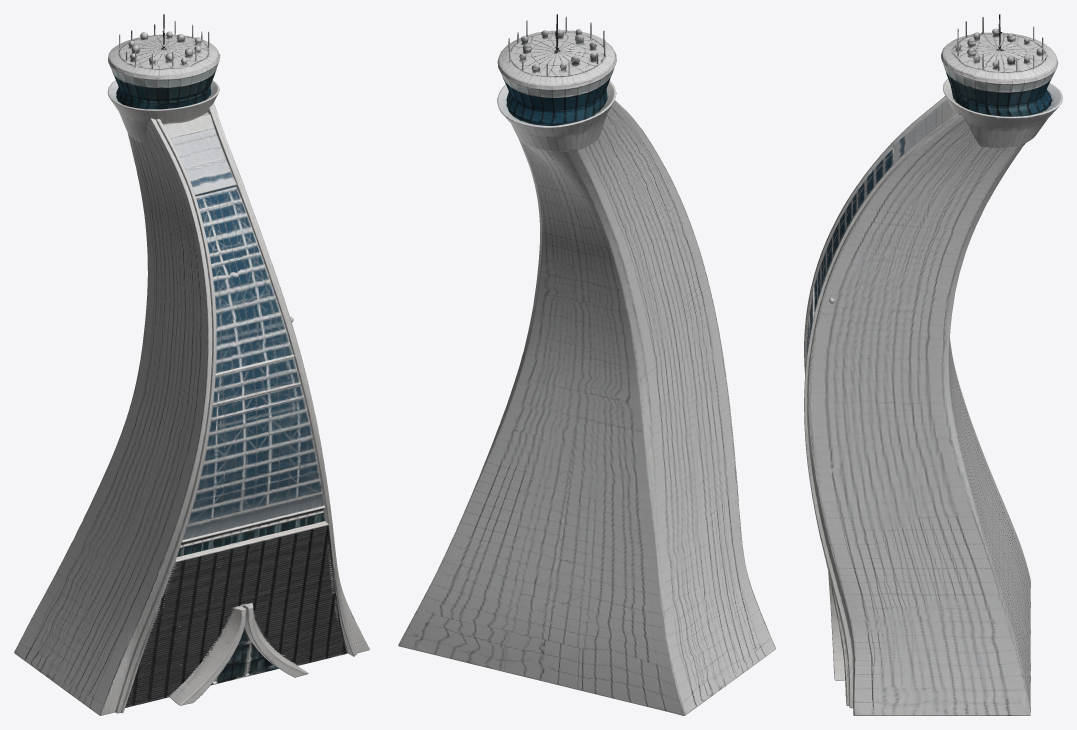
The model's file is stable-auh.glb.
3 views of the same model, side by side, from view 1: azimuth 30°, elevation 25°; view 2: azimuth 150°, elevation 25°; view 3: azimuth 270°, elevation 25° (orthographic). The views are drawn at different scales.
Size of the model in its own units: 0.8716 by 1.9 by 0.7038.
1 material, 1 textured.
